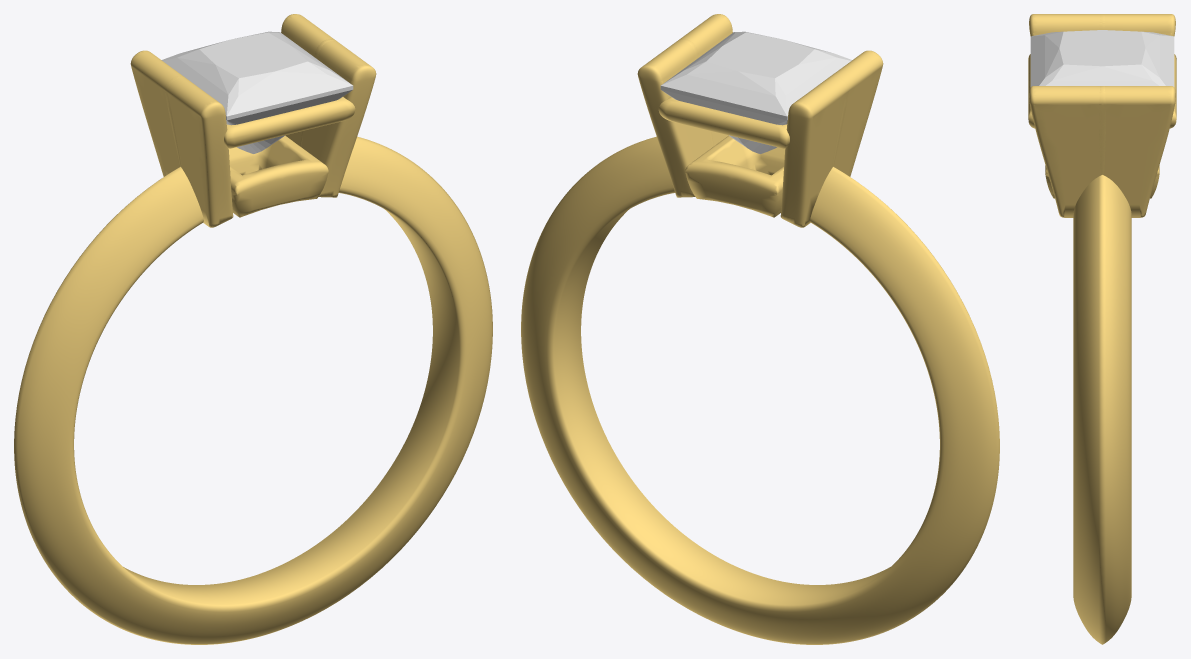
The model's file is diamond-princess-yellowgold-halfmoonbezel-knifeedge-solitaire.glb.
3 views of the same model, side by side, from view 1: azimuth 30°, elevation 25°; view 2: azimuth 150°, elevation 25°; view 3: azimuth 270°, elevation 25° (orthographic). The views are drawn at different scales.
Visible parts, largest first — view 1: metal, stone; view 2: metal, stone; view 3: metal, stone.
Boxes of the visible parts, <box> form: metal: <box>14,14,492,644</box>; stone: <box>161,31,353,153</box>; metal: <box>521,14,999,644</box>; stone: <box>660,31,852,153</box>; metal: <box>1028,14,1176,644</box>; stone: <box>1030,30,1174,86</box>.
Size of the model in its own units: 20.51 by 23.85 by 5.6.
